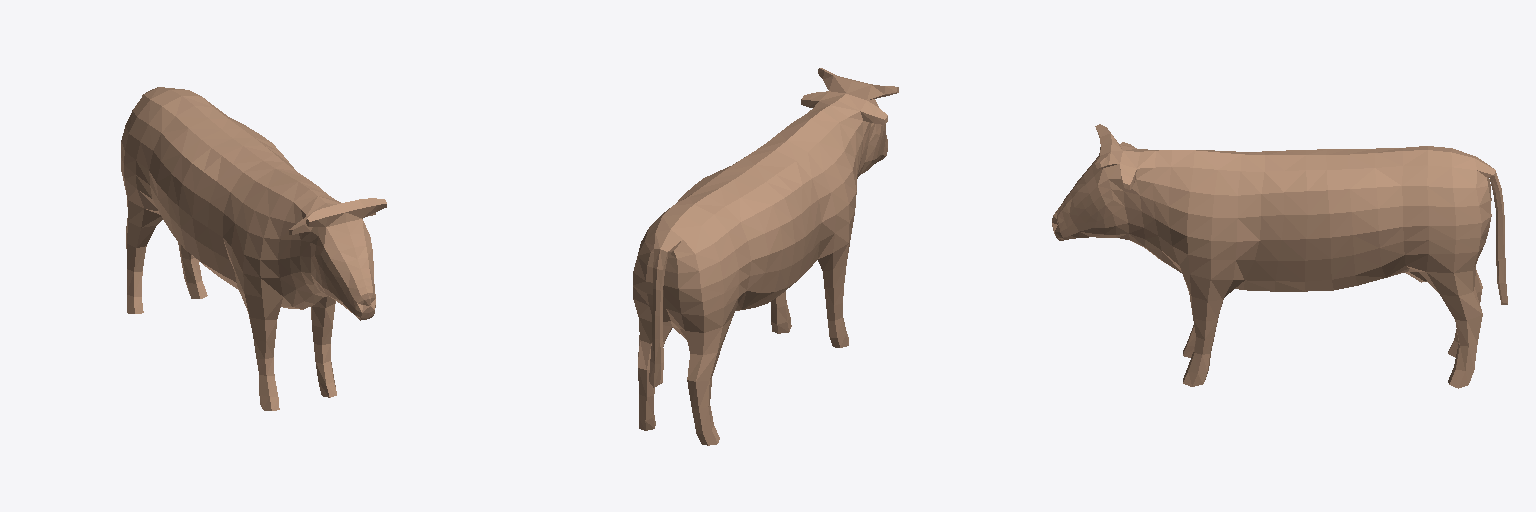
File: Beef_001.obj
3 views of the same model, side by side, from view 1: azimuth 30°, elevation 25°; view 2: azimuth 150°, elevation 25°; view 3: azimuth 270°, elevation 25° (orthographic).
Visible parts, largest first — view 1: bull; view 2: bull; view 3: bull.
Part boxes in pixels (x1,y1,x2,y2): bull: (121, 87, 386, 410); bull: (633, 68, 898, 445); bull: (1052, 124, 1507, 388).
Size of the model in its own units: 27 by 56.4 by 102.